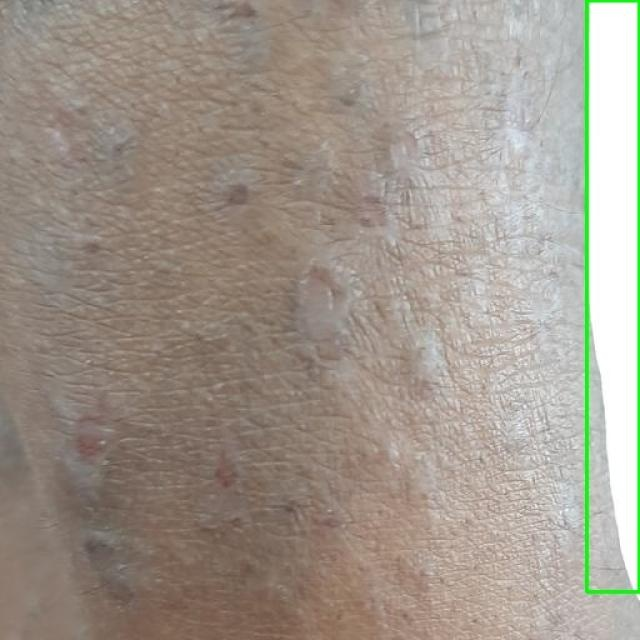Atopic Dermatitis: (586, 0, 639, 591)
